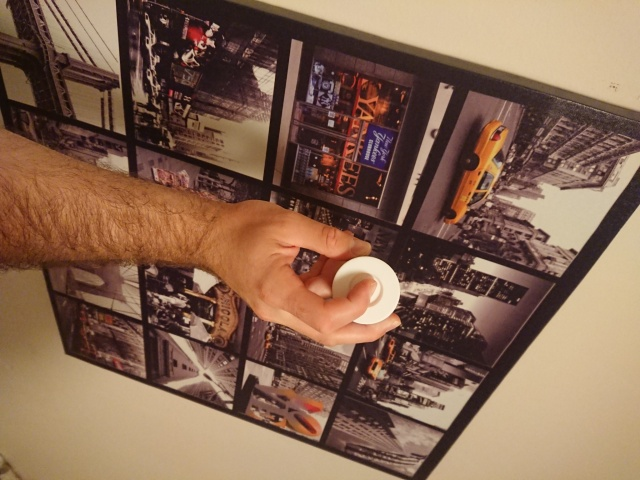Solana Pag Fine Sea Salt 250g: (329, 255, 403, 326)
